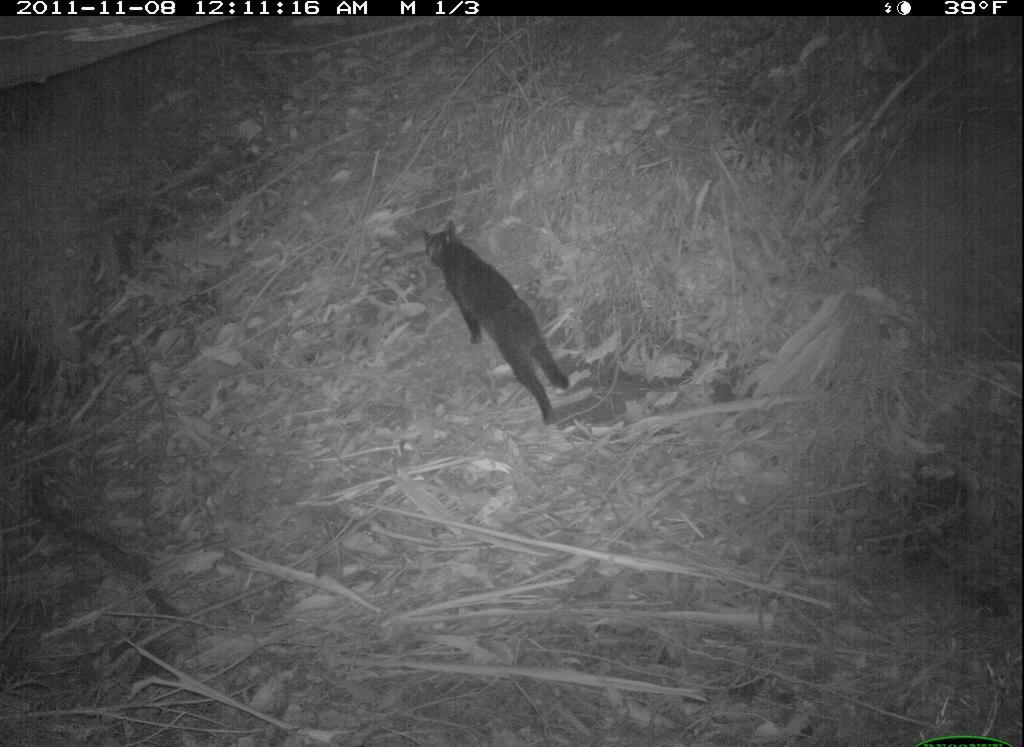cat: (409, 217, 605, 454)
